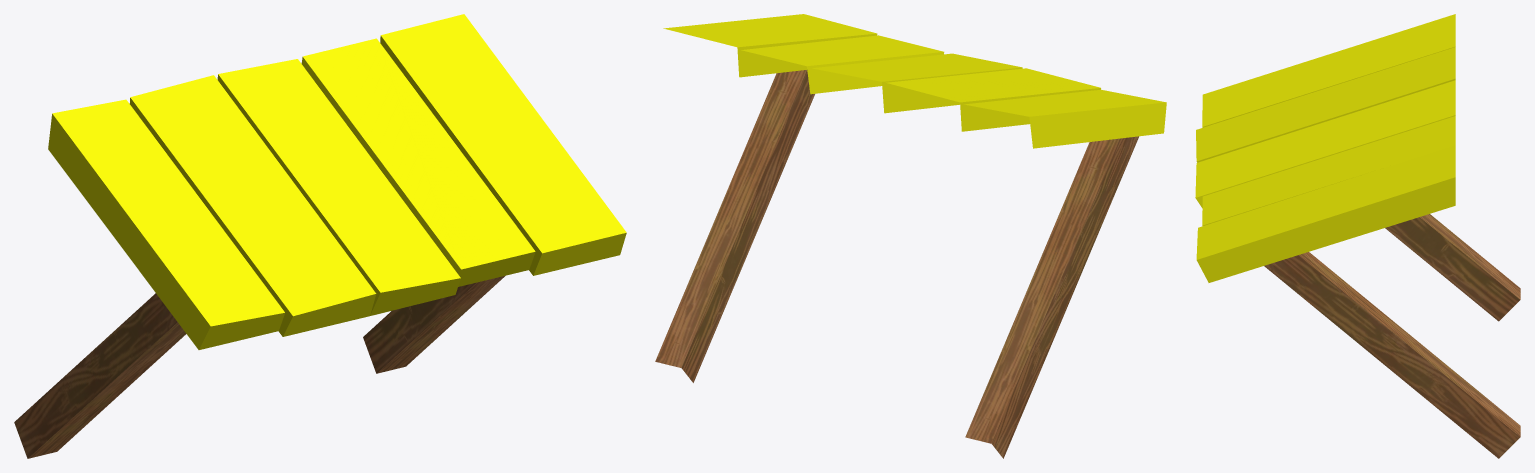
File: window-roof-wide.glb
The picture shows the model from 3 angles, left to right: view 1: azimuth 30°, elevation 25°; view 2: azimuth 150°, elevation 25°; view 3: azimuth 270°, elevation 25°; orthographic projection. The views are drawn at different scales.
Parts seen in each view (by area): view 1: Window_Roof_Wide; view 2: Window_Roof_Wide; view 3: Window_Roof_Wide.
Boxes of the visible parts, left/top/right/bottom form: Window_Roof_Wide: left=14, top=14, right=626, bottom=458; Window_Roof_Wide: left=655, top=14, right=1166, bottom=458; Window_Roof_Wide: left=1195, top=14, right=1520, bottom=458.
Size of the model in its own units: 1.42 by 1.18 by 1.18.
Materials: 2 (1 with a texture image).
